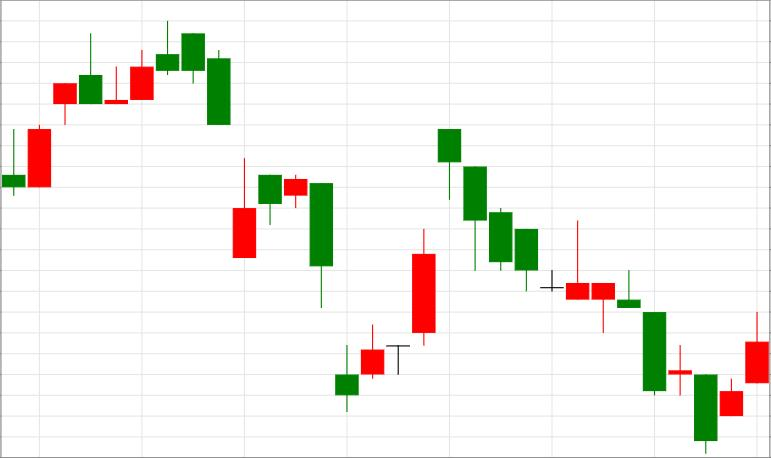hanging_man_fall: (335, 128, 460, 411)
